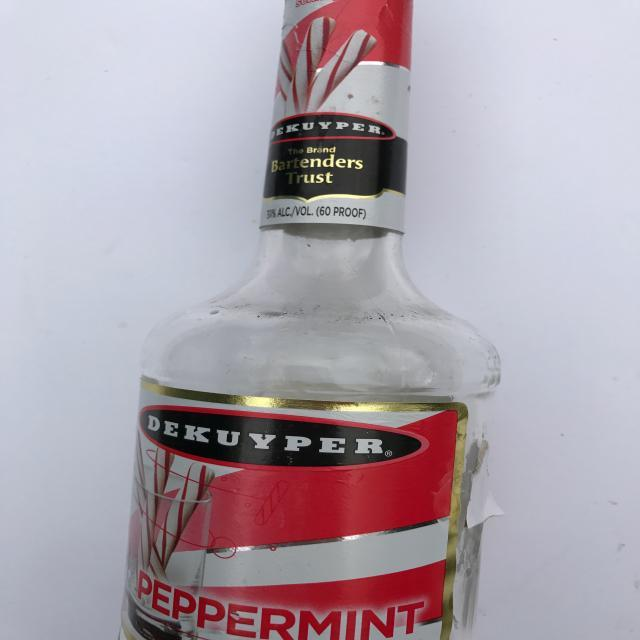glass: (127, 0, 503, 640)
